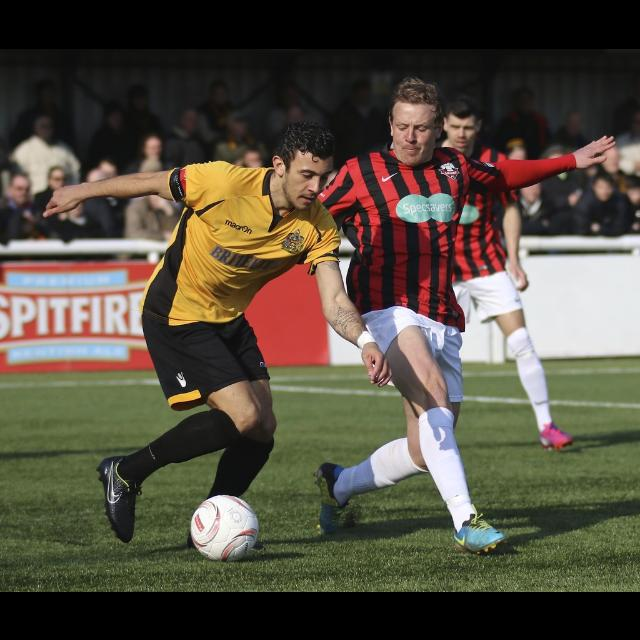Football: (189, 490, 257, 558)
